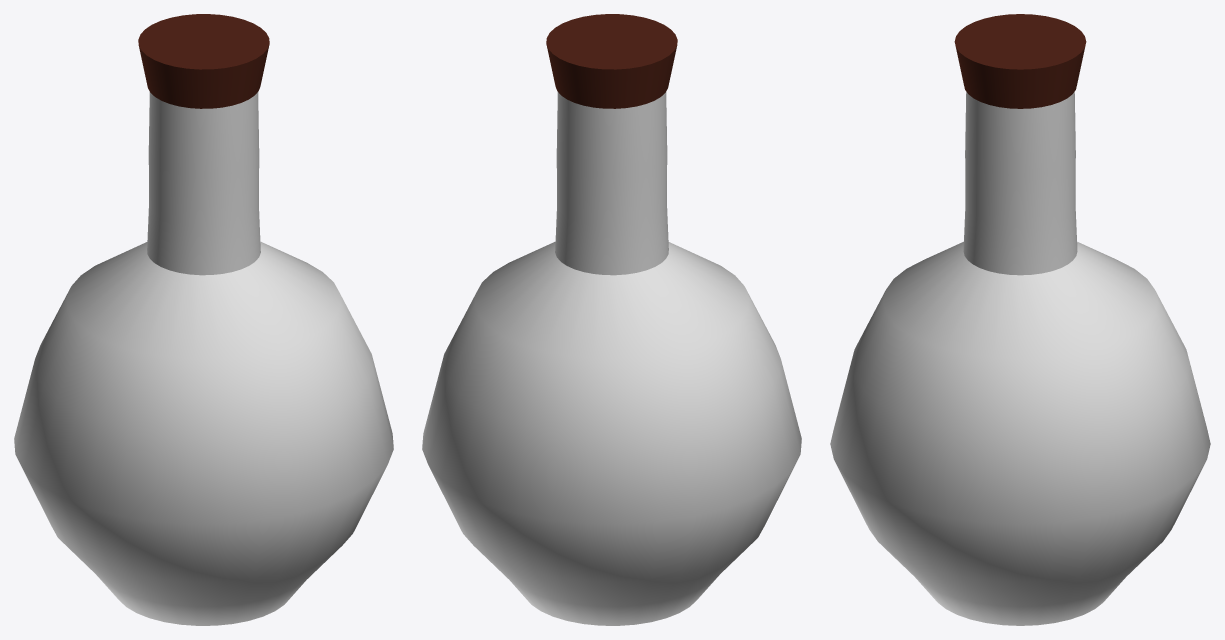
The model's file is flask.fbx.
The picture shows the model from 3 angles, left to right: view 1: azimuth 30°, elevation 25°; view 2: azimuth 150°, elevation 25°; view 3: azimuth 270°, elevation 25°; orthographic projection.
Visible parts, largest first — view 1: flask, cork; view 2: flask, cork; view 3: flask, cork.
Boxes of the visible parts, left/top/right/bottom form: flask: left=14, top=92, right=393, bottom=625; cork: left=138, top=14, right=269, bottom=108; flask: left=422, top=92, right=801, bottom=625; cork: left=546, top=14, right=677, bottom=108; flask: left=830, top=92, right=1210, bottom=625; cork: left=954, top=14, right=1086, bottom=108.
Size of the model in its own units: 52.88 by 83.77 by 52.88.
